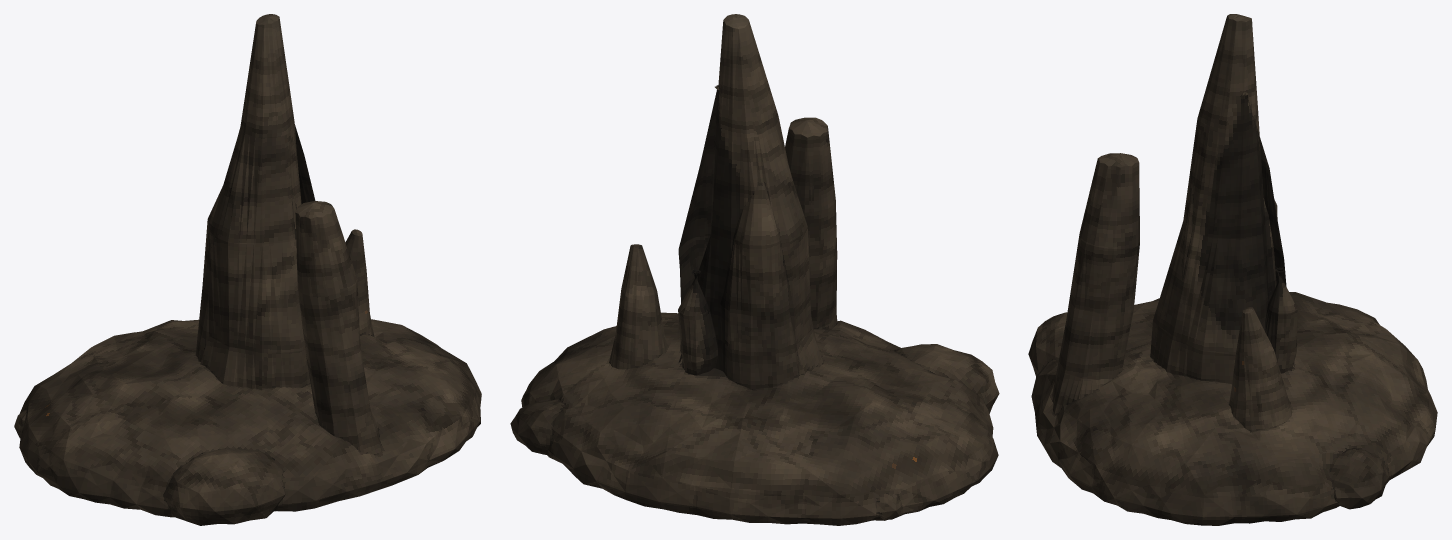
Rendered from mine_stalagmites_b.glb.
3 views of the same model, side by side, from view 1: azimuth 30°, elevation 25°; view 2: azimuth 150°, elevation 25°; view 3: azimuth 270°, elevation 25° (orthographic). The views are drawn at different scales.
Visible parts, largest first — view 1: mine_stalagmites_b.001; view 2: mine_stalagmites_b.001; view 3: mine_stalagmites_b.001.
Boxes of the visible parts, x1,y1,x2,y2 form: mine_stalagmites_b.001: (14, 14, 481, 525); mine_stalagmites_b.001: (510, 14, 999, 525); mine_stalagmites_b.001: (1028, 14, 1437, 525).
Bounding box in the file's own units: 2.54 × 2.33 × 2.07.
1 material, 1 textured.
